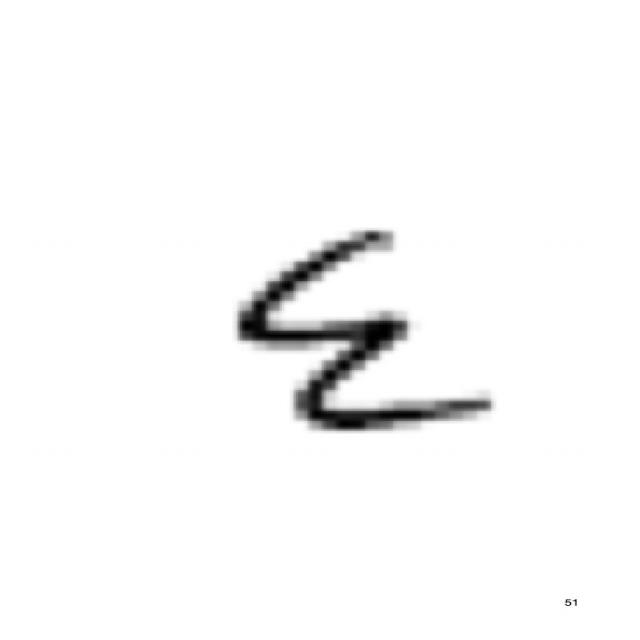4 -four-: (215, 215, 510, 441)
